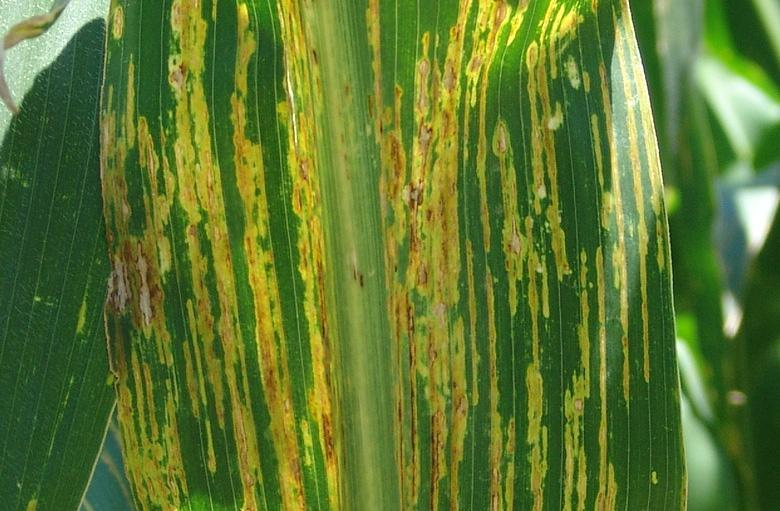Corn_Blight: (362, 4, 696, 508), (88, 9, 343, 508)
